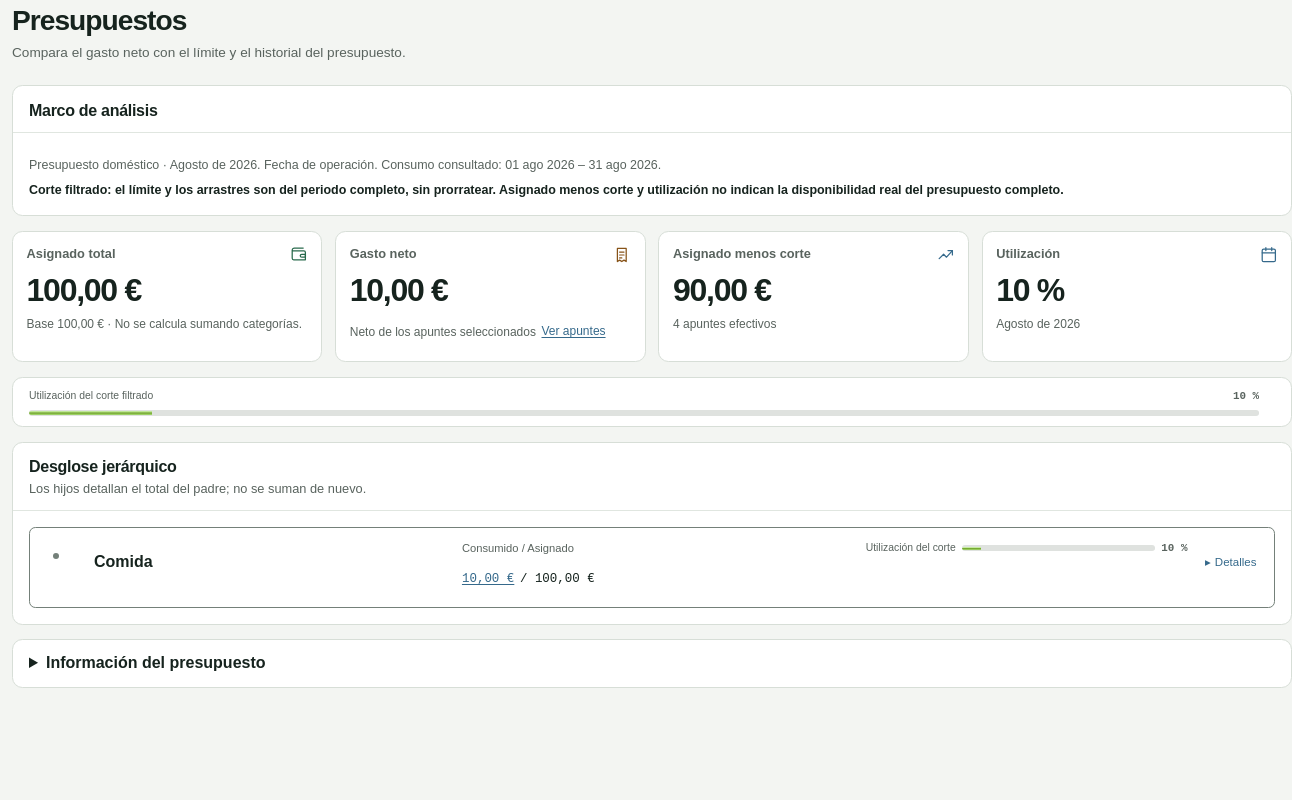
it: BudgetsPageView › does not describe a filtered slice as on track when the full budget is exceeded
Click the button with aria-label "Detalles de Gastos › Comida". click: (1231, 562)
box: [1198,540,1264,584]
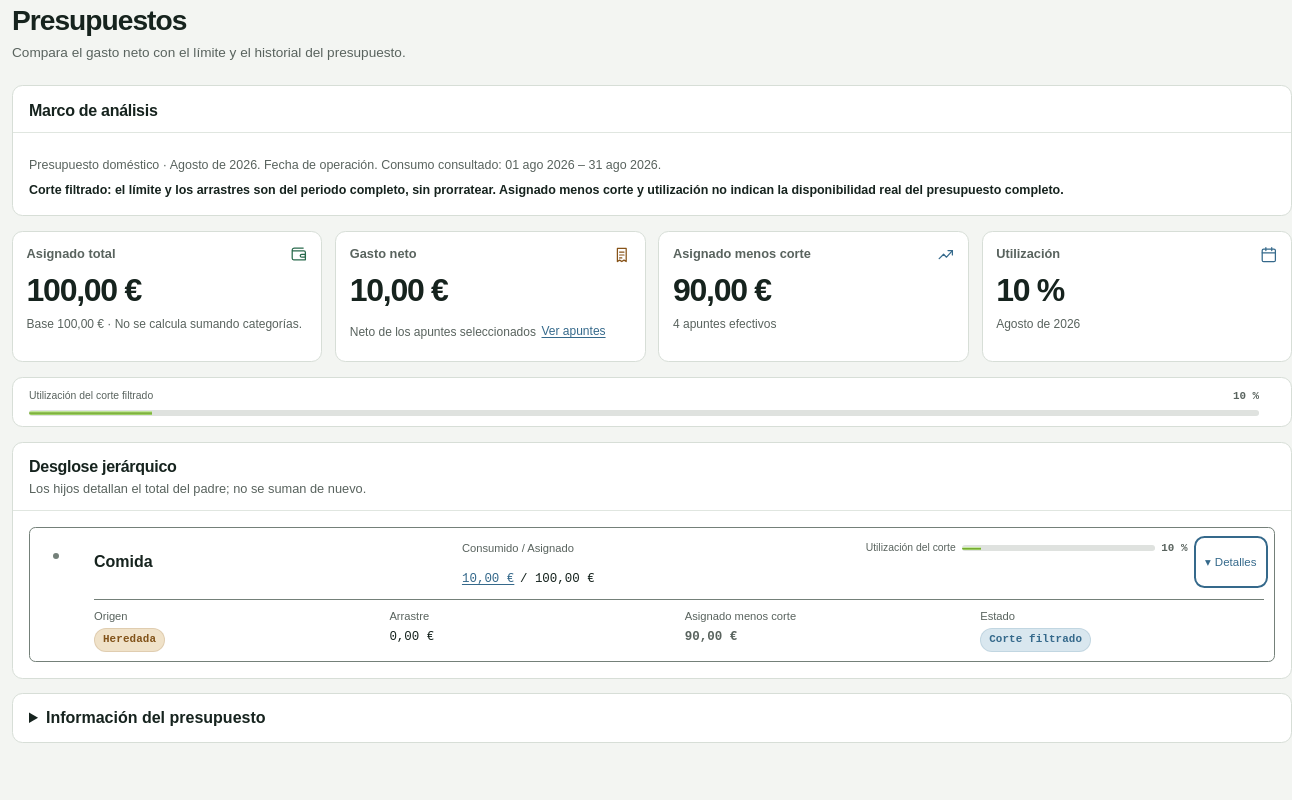
Check: the text "Corte filtrado" is shown, box [980,628,1091,652]
